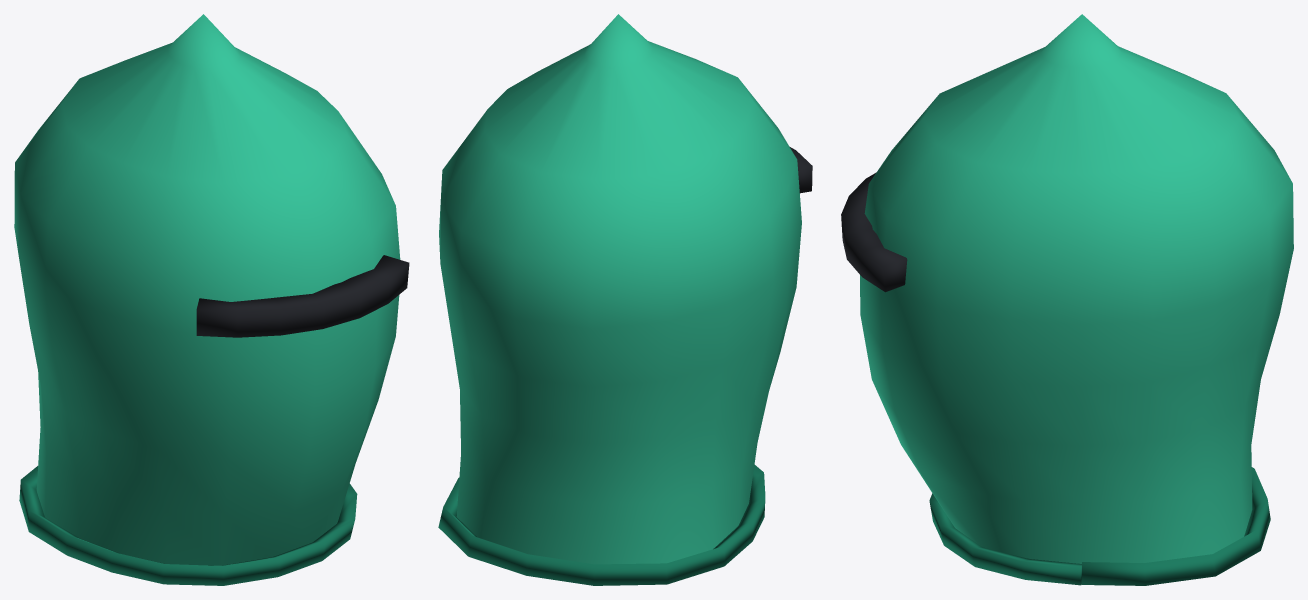
Rendered from mythril_armor_head.glb.
3 views of the same model, side by side, from view 1: azimuth 30°, elevation 25°; view 2: azimuth 150°, elevation 25°; view 3: azimuth 270°, elevation 25° (orthographic). The views are drawn at different scales.
Visible parts, largest first — view 1: mythril_armor_head; view 2: mythril_armor_head; view 3: mythril_armor_head.
Boxes of the visible parts, bbox=[...] form: mythril_armor_head: bbox=[14, 14, 409, 585]; mythril_armor_head: bbox=[438, 14, 812, 585]; mythril_armor_head: bbox=[841, 14, 1293, 585].
Bounding box in the file's own units: 0.215 × 0.3326 × 0.2687.
